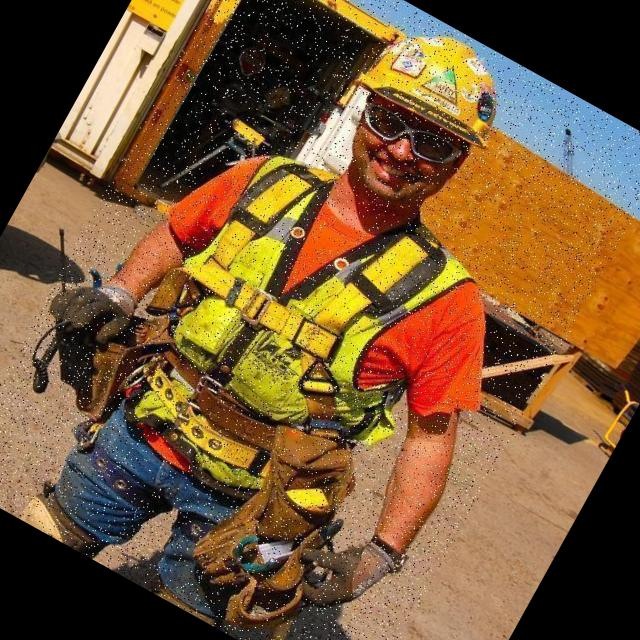hard_hat: (340, 0, 537, 169)
safety_vest: (86, 110, 514, 564)
vehicle: (0, 0, 640, 640)
